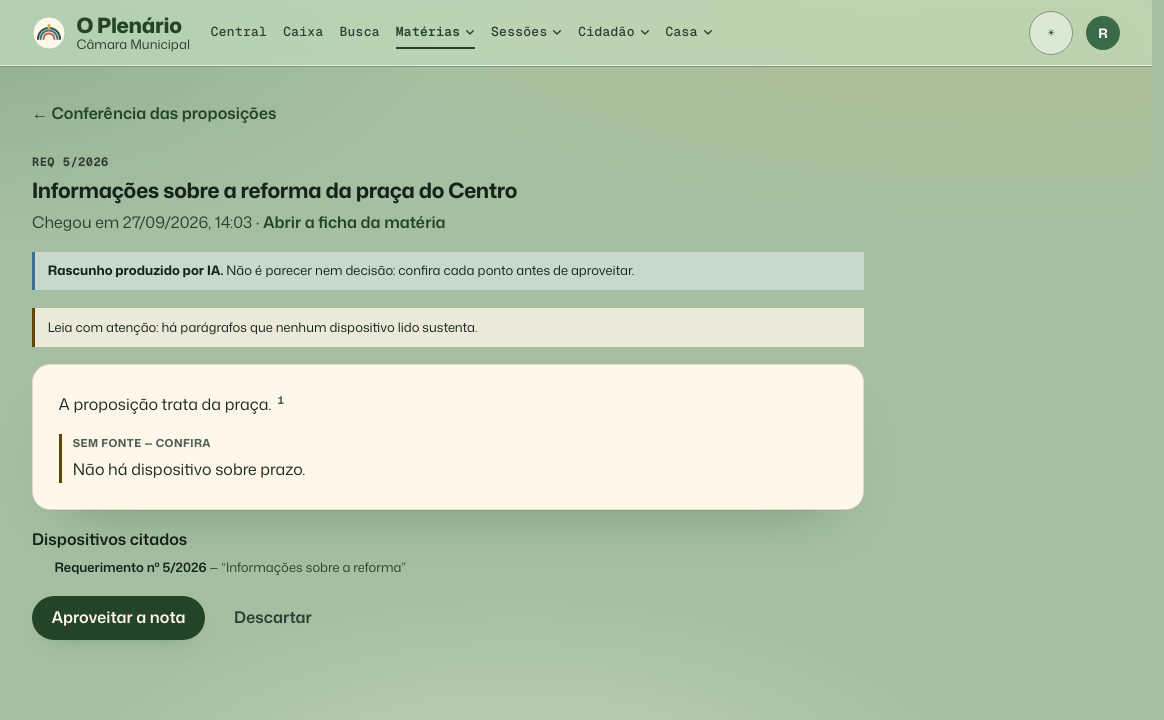
conferências › a nota: selo de IA, aviso, citação numerada, parágrafo sem fonte — e aproveitar editando
Expected: the text "Rascunho produzido por IA." is shown, left=48, top=261, right=223, bottom=279
Expected: the text "Leia com atenção: há parágrafos que nenhum dispositivo lido sustenta" is shown, left=48, top=318, right=477, bottom=336
Click the button "Aproveitar a nota" at (118, 618), box left=32, top=596, right=205, bottom=640
(page scrolled)
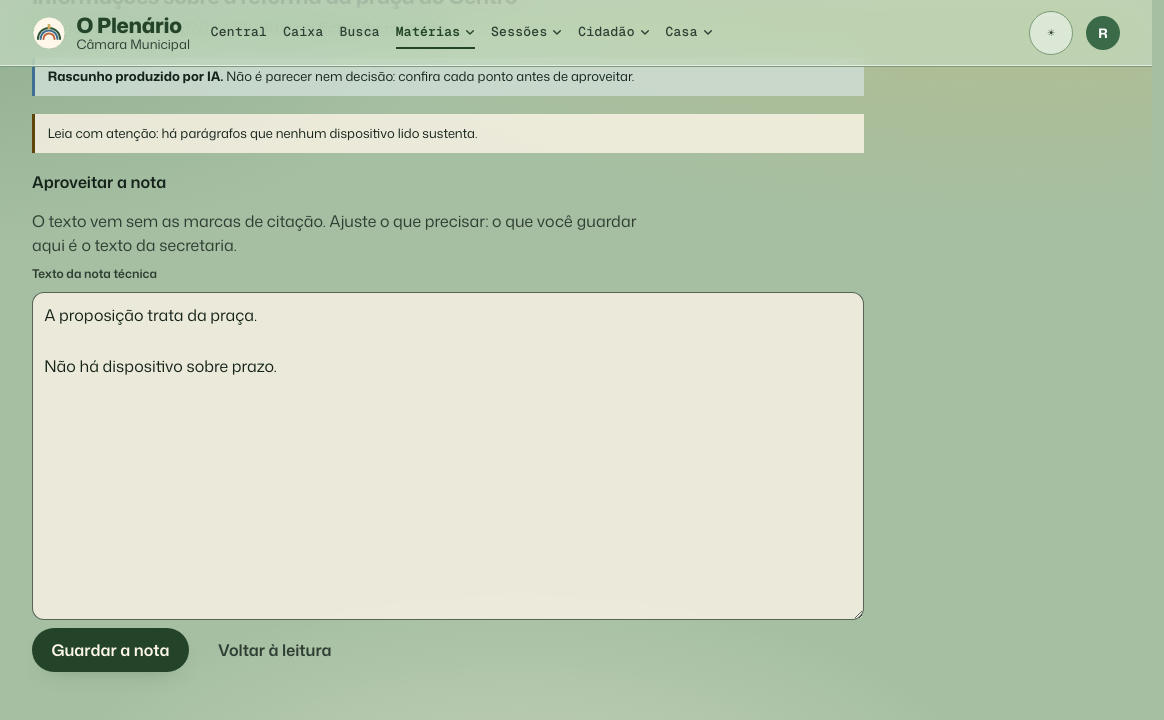
Replace the text in the text box labelled "Texto da nota técnica" with "Texto da secretaria." at (448, 456), box left=32, top=292, right=864, bottom=620
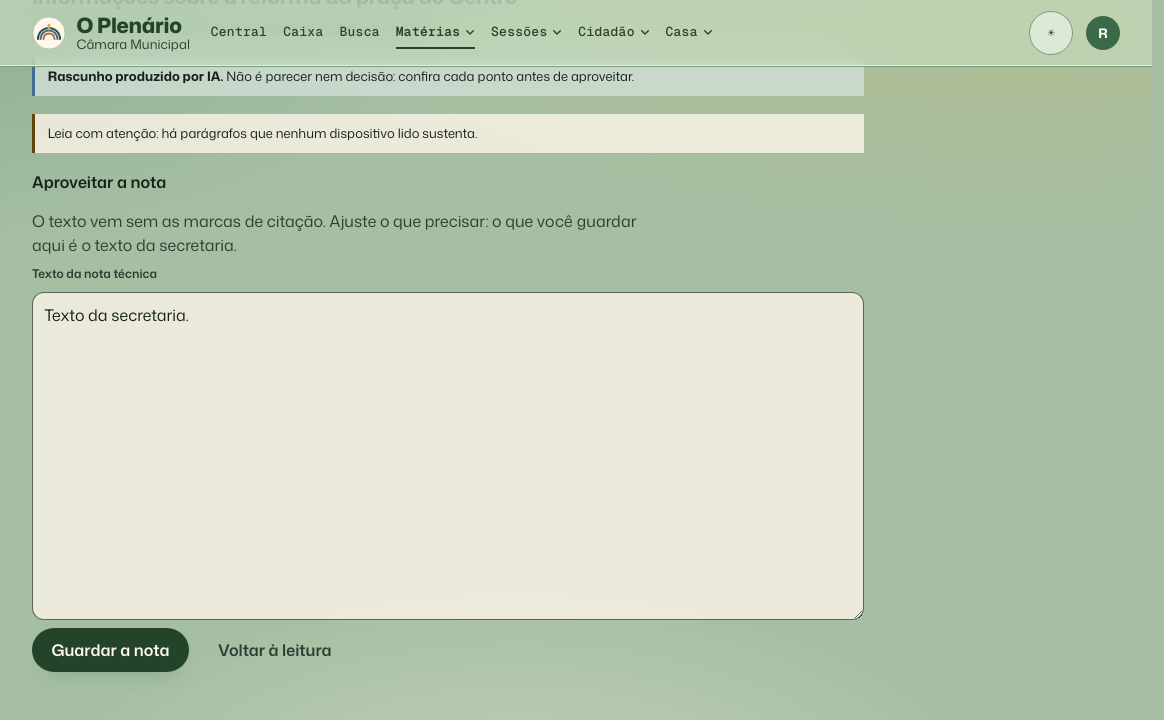
Click the button "Guardar a nota" at (110, 650), box left=32, top=628, right=189, bottom=672
(page scrolled)
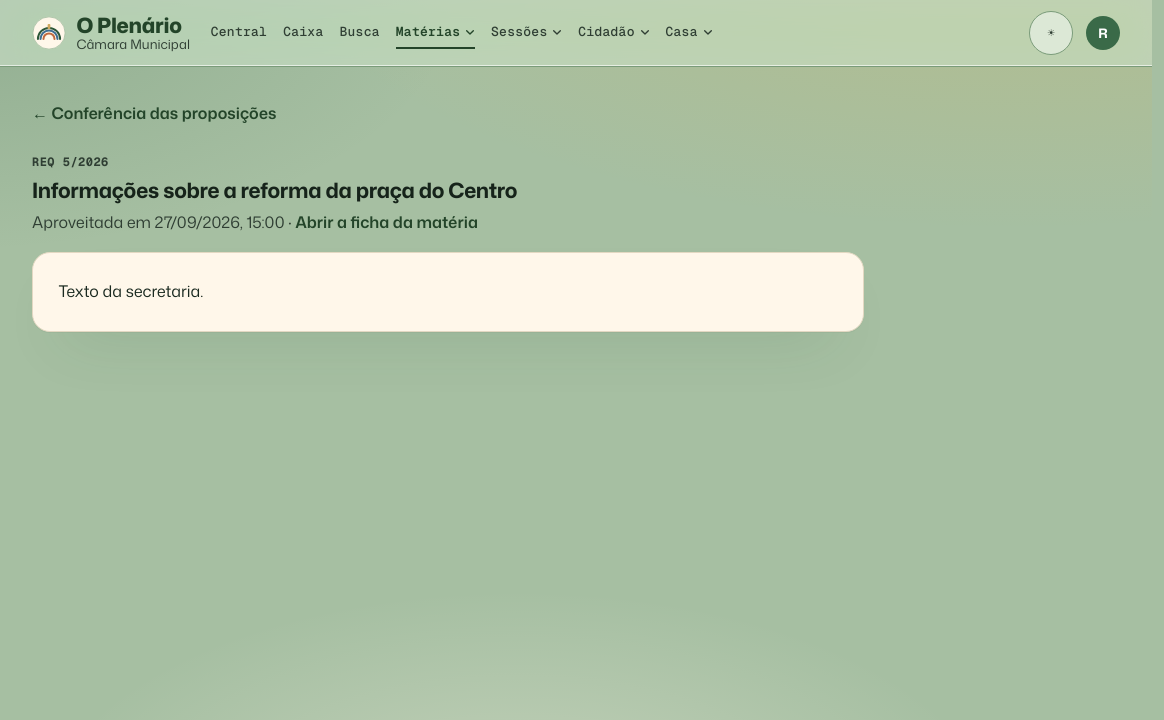
Now the text "Texto da secretaria." is shown, box left=32, top=252, right=864, bottom=332
Now the text "Aproveitada em 27/09/2026, 15:00 · Abrir a ficha da matéria" is shown, box left=32, top=211, right=478, bottom=233
Now the label labelled "Texto da nota técnica" is gone
